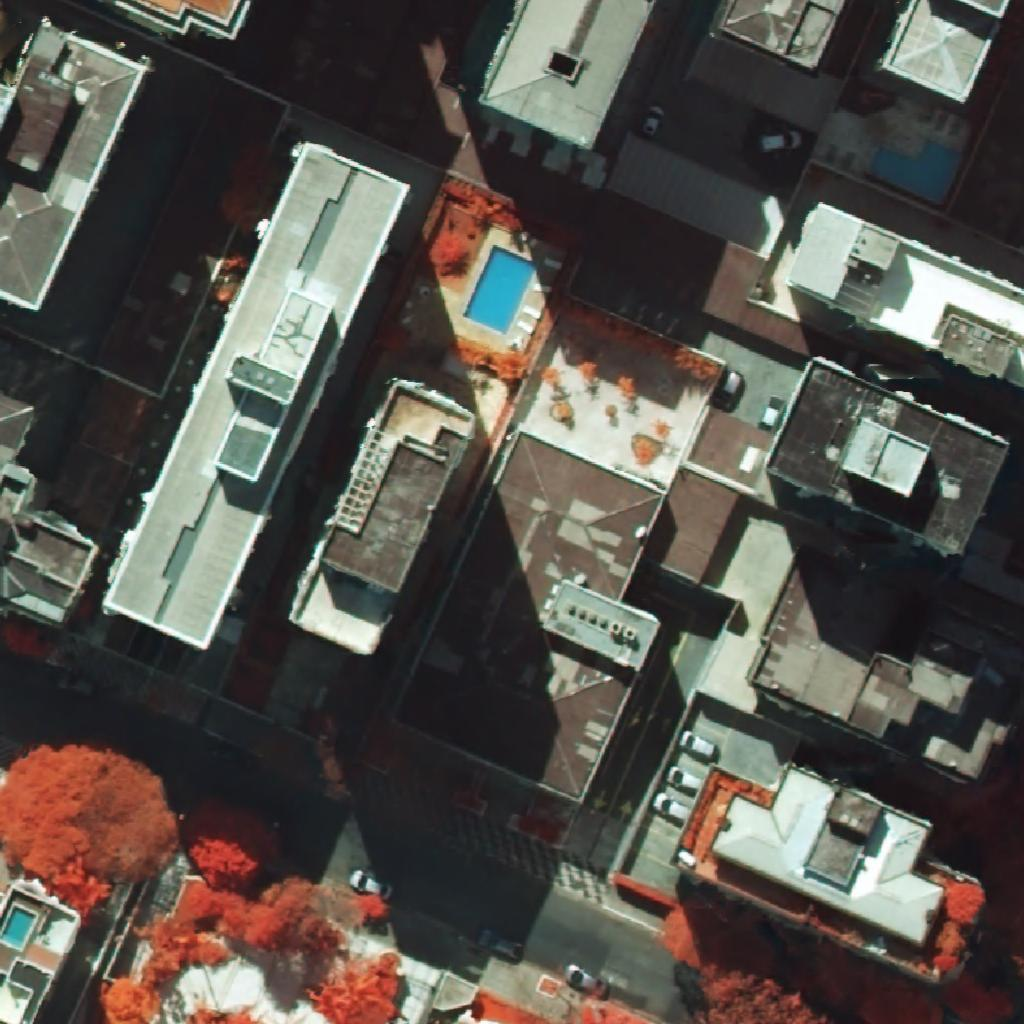pool: (464, 246, 537, 335), (872, 141, 959, 201), (0, 908, 35, 948)
